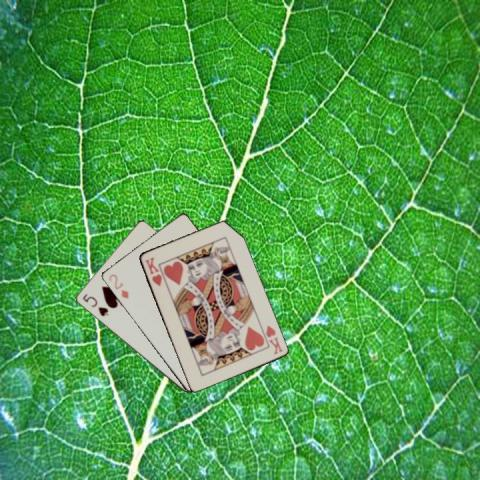2d: (105, 271, 130, 300)
5s: (80, 291, 110, 318)
Kh: (263, 322, 284, 356), (142, 254, 163, 287)
